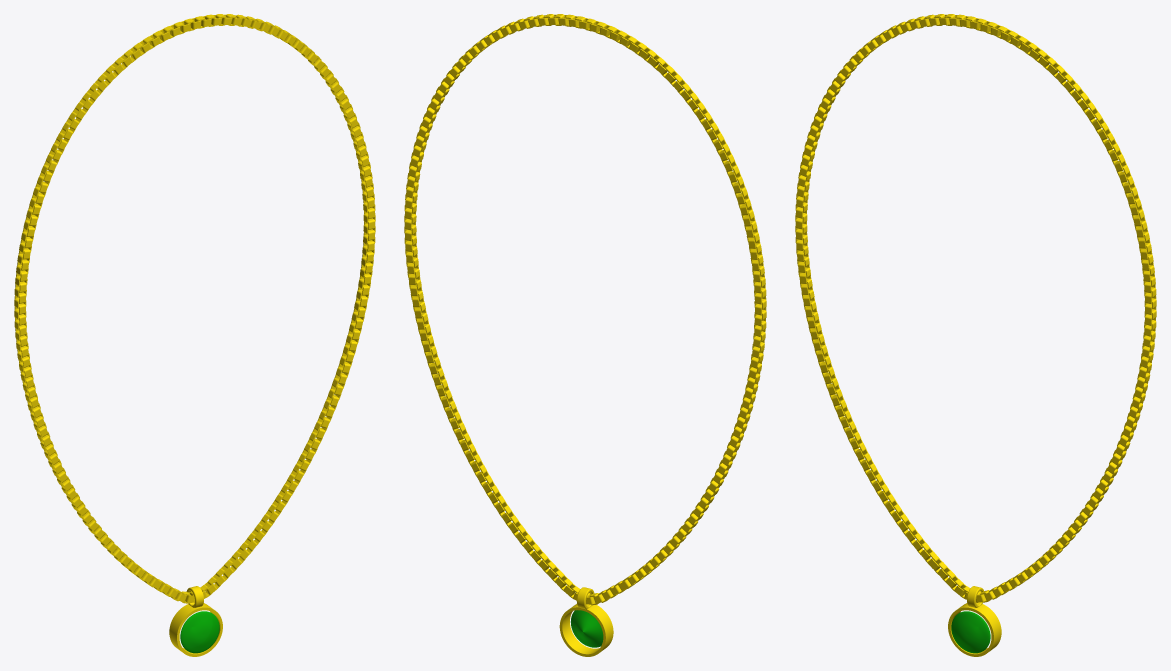
File: pendant-circle.glb
The picture shows the model from 3 angles, left to right: view 1: azimuth 30°, elevation 25°; view 2: azimuth 150°, elevation 25°; view 3: azimuth 330°, elevation 25°; orthographic projection.
Size of the model in its own units: 77.78 by 132 by 4.97.
